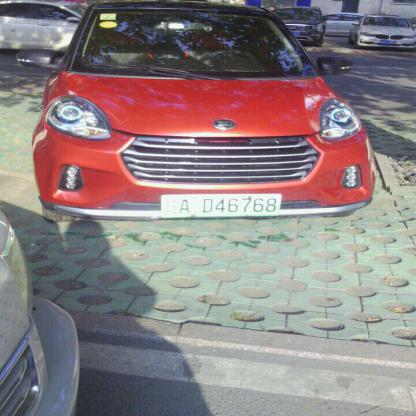lp: (162, 194, 281, 218)
